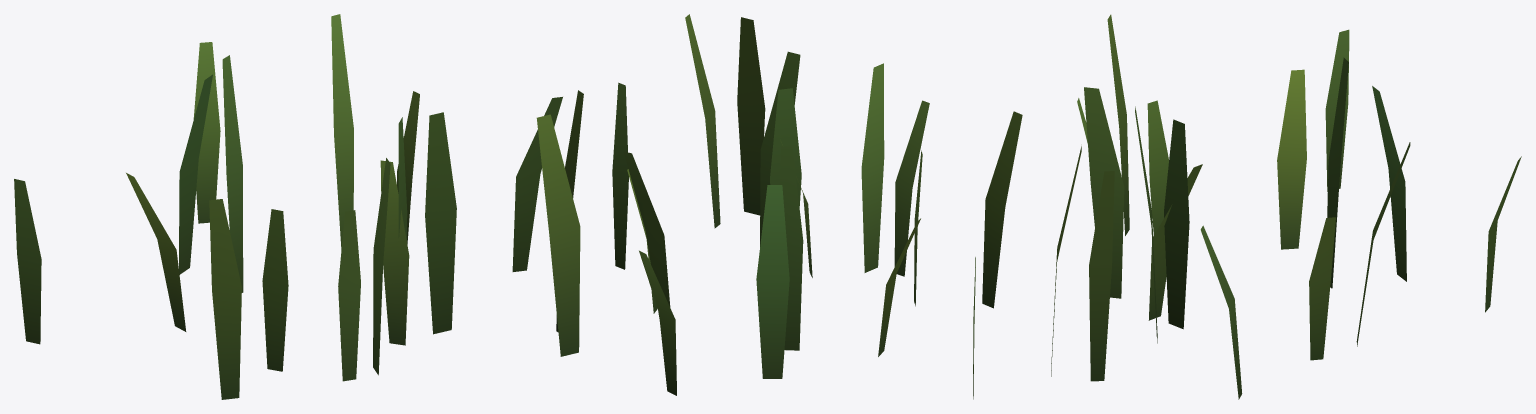
File: grass_tuft_03.glb
3 renders of one model, left to right at view 1: azimuth 30°, elevation 25°; view 2: azimuth 150°, elevation 25°; view 3: azimuth 270°, elevation 25°, orthographic. The views are drawn at different scales.
Parts seen in each view (by area): view 1: grass_tuft_03.blades; view 2: grass_tuft_03.blades; view 3: grass_tuft_03.blades.
Boxes of the visible parts, left/top/right/bottom form: grass_tuft_03.blades: left=14, top=14, right=583, bottom=399; grass_tuft_03.blades: left=612, top=14, right=1022, bottom=399; grass_tuft_03.blades: left=1051, top=14, right=1521, bottom=399.
Size of the model in its own units: 0.1562 by 0.0735 by 0.1396.
